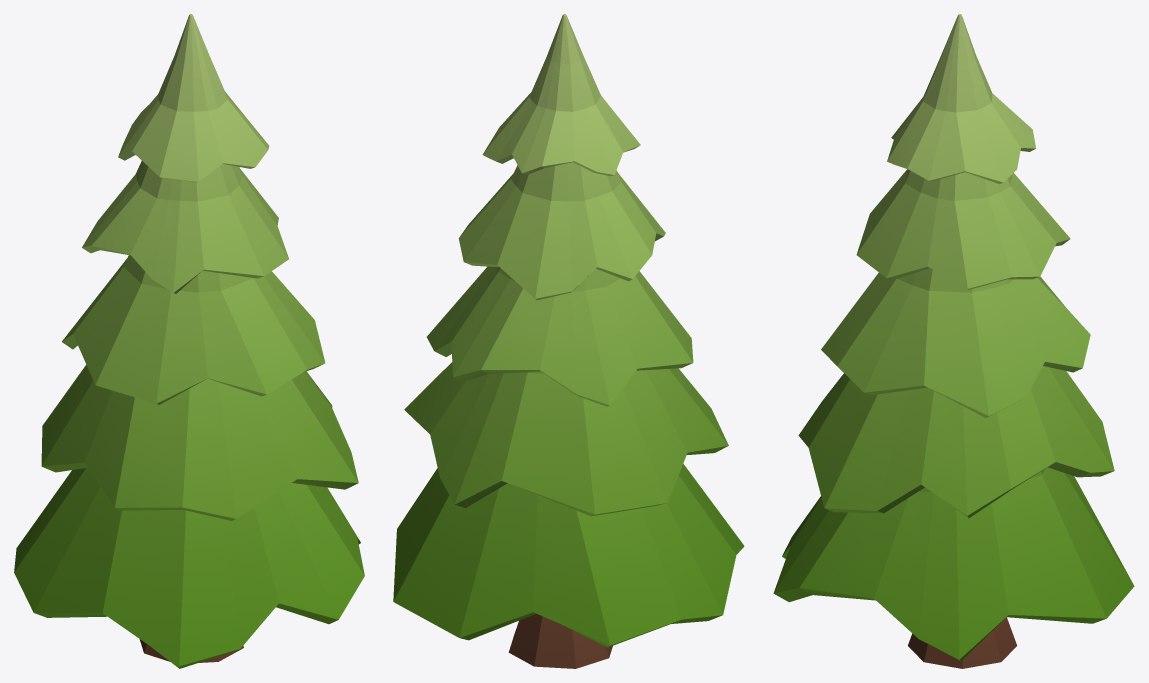
File: fir tree large.fbx
3 renders of one model, left to right at view 1: azimuth 30°, elevation 25°; view 2: azimuth 150°, elevation 25°; view 3: azimuth 270°, elevation 25°, orthographic.
Visible parts, largest first — view 1: fir tree large; view 2: fir tree large; view 3: fir tree large.
Part boxes in pixels (x1,y1,x2,y2): fir tree large: (14,14,364,668); fir tree large: (393,14,744,668); fir tree large: (773,14,1134,668).
Bounding box in the file's own units: 447 × 830 × 431.
